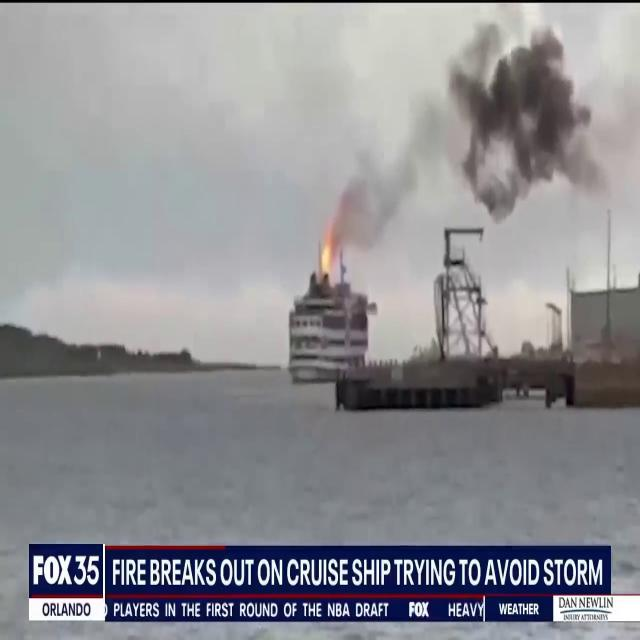Fire: (314, 226, 342, 288)
Smoke: (323, 4, 614, 263)
